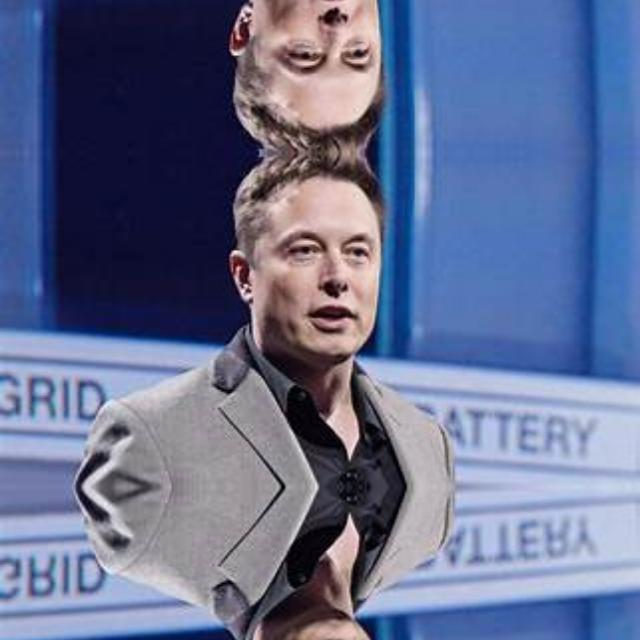person: (78, 152, 482, 486), (78, 486, 482, 640), (78, 0, 482, 152)
